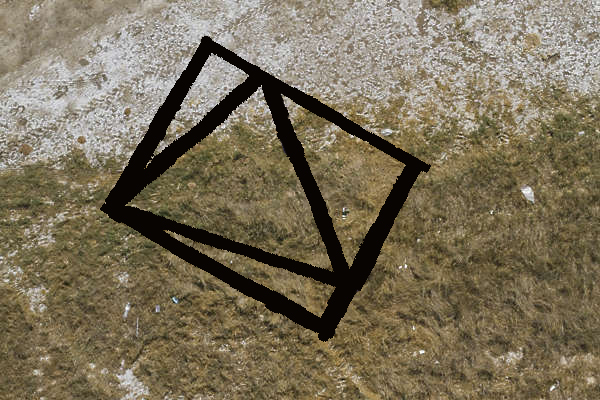marker: (100, 34, 435, 344)
